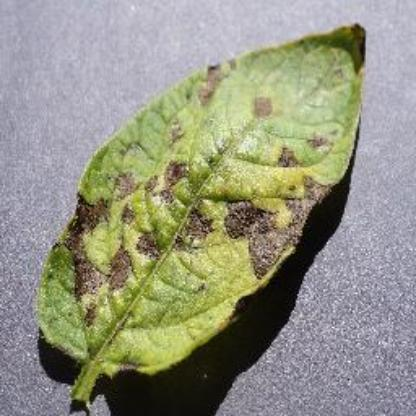Early-Blight: (37, 22, 386, 409)
